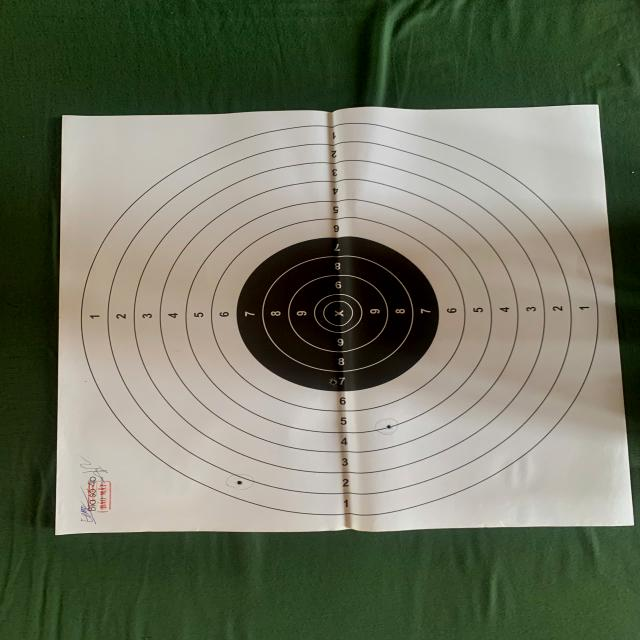bullet: (332, 376, 336, 384), (388, 424, 392, 428), (237, 481, 241, 484)
target: (56, 104, 628, 532)
